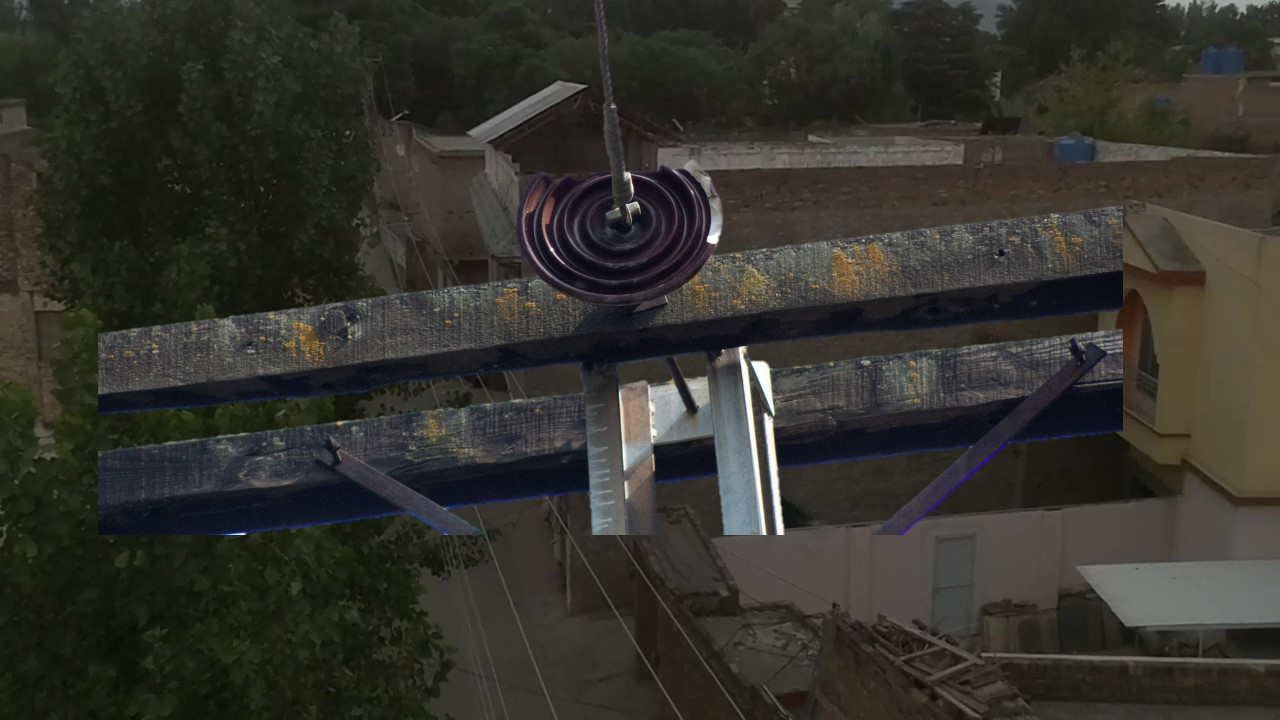defect_disc: (516, 148, 731, 314)
